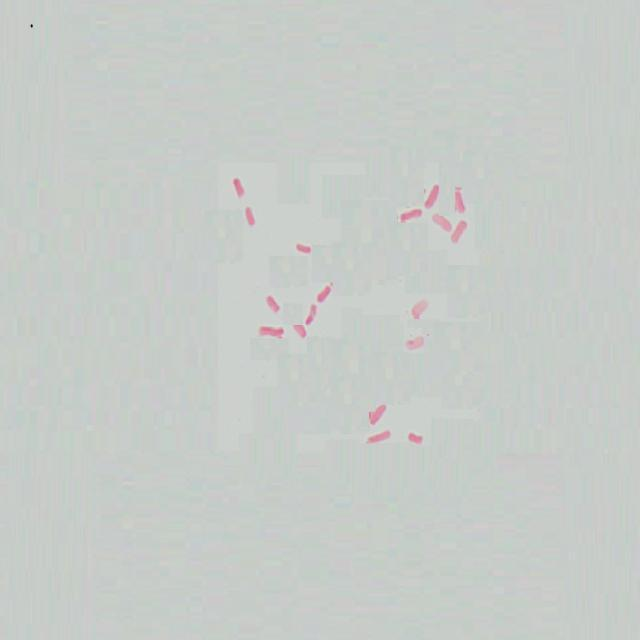E-coli: (257, 322, 287, 346), (410, 298, 433, 326), (226, 173, 245, 204), (366, 428, 391, 450), (405, 425, 426, 450), (403, 334, 427, 355), (398, 206, 423, 226), (368, 401, 386, 427), (261, 292, 282, 314), (241, 209, 260, 233), (452, 183, 467, 213), (450, 221, 466, 249), (432, 211, 452, 233), (426, 182, 441, 209), (294, 237, 313, 257), (305, 304, 319, 331), (316, 285, 333, 304), (294, 323, 307, 340)
